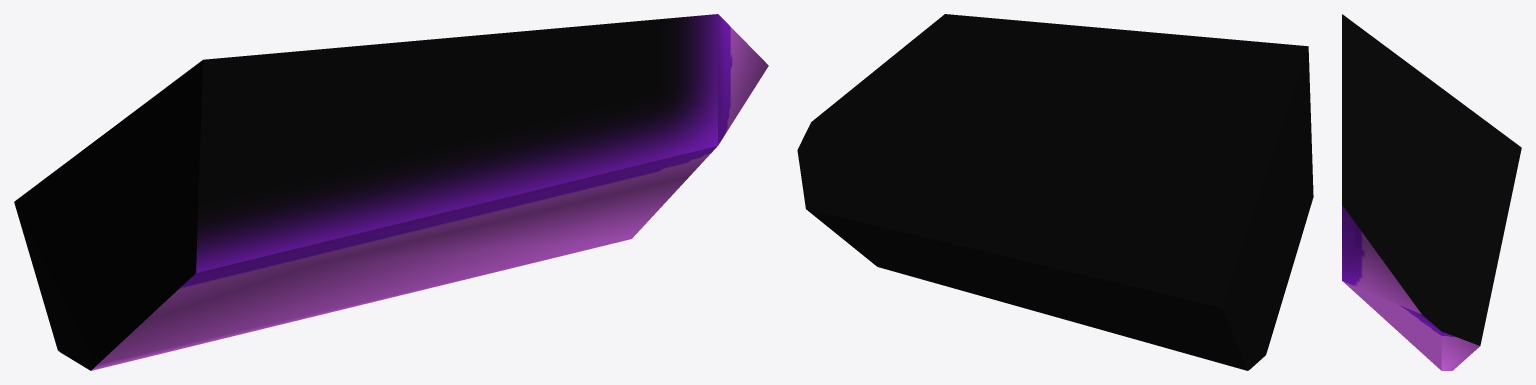
The model's file is blockParticle_6.obj.
3 renders of one model, left to right at view 1: azimuth 30°, elevation 25°; view 2: azimuth 150°, elevation 25°; view 3: azimuth 270°, elevation 25°, orthographic. The views are drawn at different scales.
Parts seen in each view (by area): view 1: 立方体_cell.007; view 2: 立方体_cell.007; view 3: 立方体_cell.007.
Boxes of the visible parts, bbox=[...] form: 立方体_cell.007: bbox=[14, 14, 768, 370]; 立方体_cell.007: bbox=[797, 14, 1313, 370]; 立方体_cell.007: bbox=[1342, 14, 1521, 370].
Bounding box in the file's own units: 0.9523 × 0.4992 × 0.3832.
2 materials, 2 textured.
